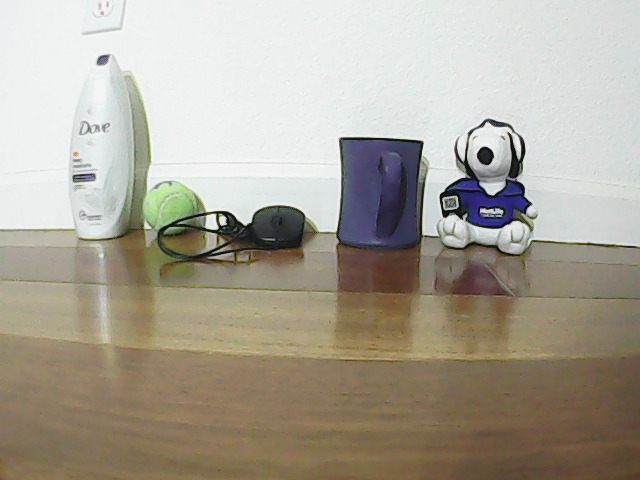ball: (147, 167, 202, 238)
mouse: (255, 198, 310, 245)
mug: (337, 118, 425, 256)
snoopy: (450, 99, 546, 257)
soap: (70, 39, 132, 241)
